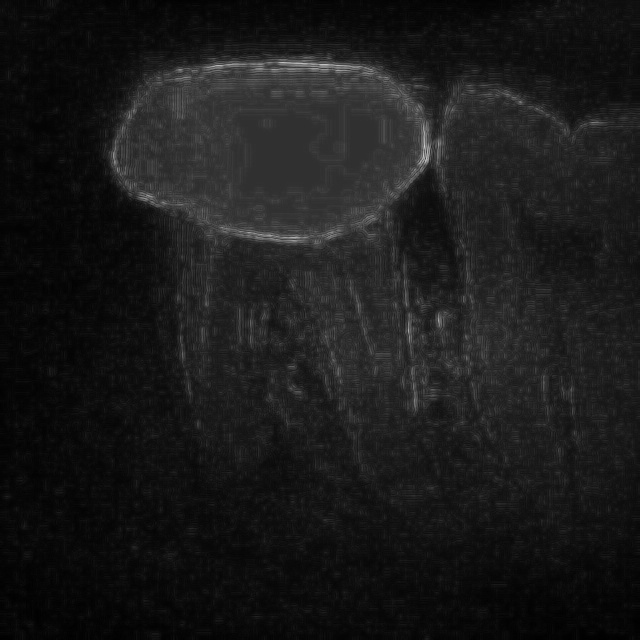Class 2- incomplete endodontic treatment: (90, 45, 500, 512)
